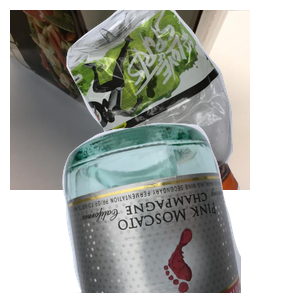cardboard: (10, 10, 250, 190)
glass: (60, 120, 300, 300)
plastic: (64, 10, 300, 190)
trash: (97, 151, 283, 300)
